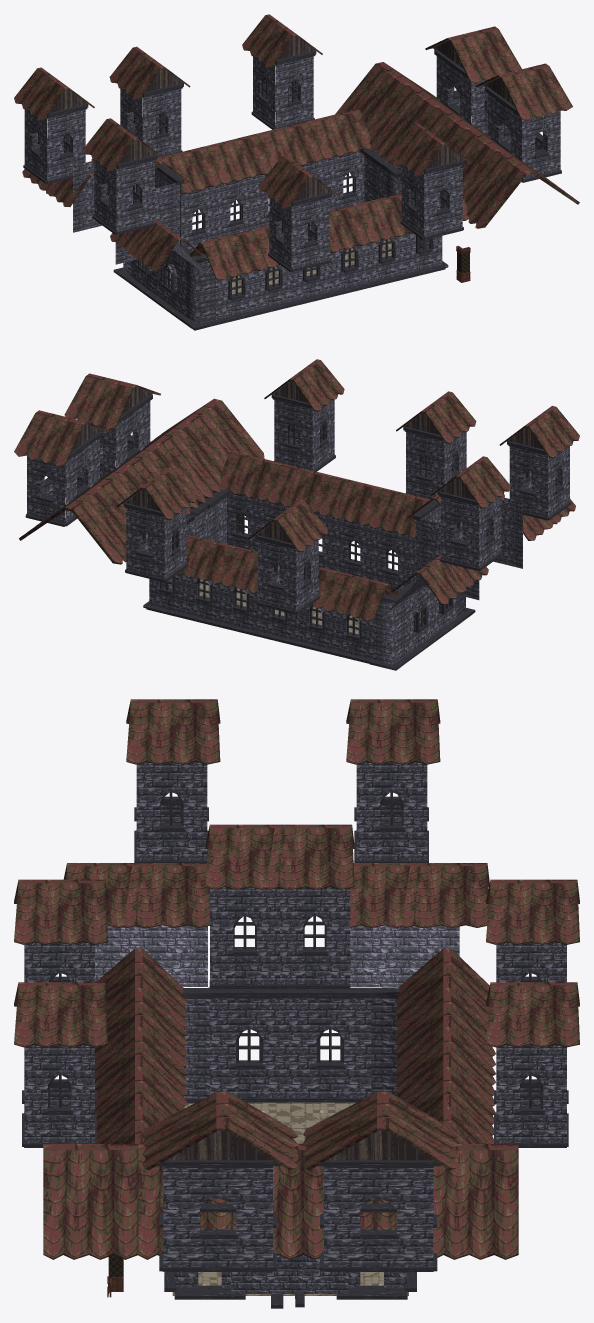
File: outside.fbx
The picture shows the model from 3 angles, top to bottom: view 1: azimuth 30°, elevation 25°; view 2: azimuth 150°, elevation 25°; view 3: azimuth 270°, elevation 25°; orthographic projection. The views are drawn at different scales.
Parts seen in each view (by area): view 1: outside2; view 2: outside2; view 3: outside2.
Part boxes in pixels (x1,y1,x2,y2): outside2: (14, 14, 579, 330); outside2: (14, 359, 579, 670); outside2: (14, 699, 579, 1308).
Size of the model in its own units: 6890 by 3069 by 4545.
